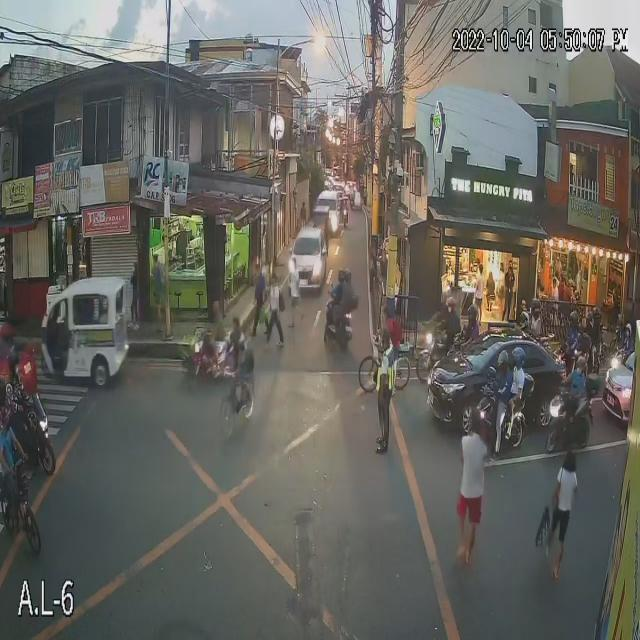helmet: (6, 345, 22, 380), (335, 266, 352, 288), (498, 350, 511, 376), (574, 357, 588, 376), (466, 305, 478, 327), (568, 310, 580, 332), (512, 347, 523, 368), (531, 299, 541, 322), (447, 297, 457, 318), (592, 306, 602, 324), (585, 311, 593, 331), (625, 325, 632, 338)
motorcycle: (3, 400, 55, 477), (474, 384, 530, 450), (183, 330, 252, 380), (543, 391, 599, 451), (417, 322, 460, 380), (324, 298, 355, 350), (605, 351, 632, 379)
rider: (3, 342, 25, 427), (331, 265, 353, 322), (495, 349, 510, 421), (508, 347, 525, 403), (571, 355, 587, 413), (208, 301, 225, 347), (462, 303, 480, 344), (565, 309, 582, 351), (443, 296, 457, 341), (528, 297, 542, 340), (591, 305, 600, 343), (583, 309, 592, 345), (622, 323, 632, 351)
